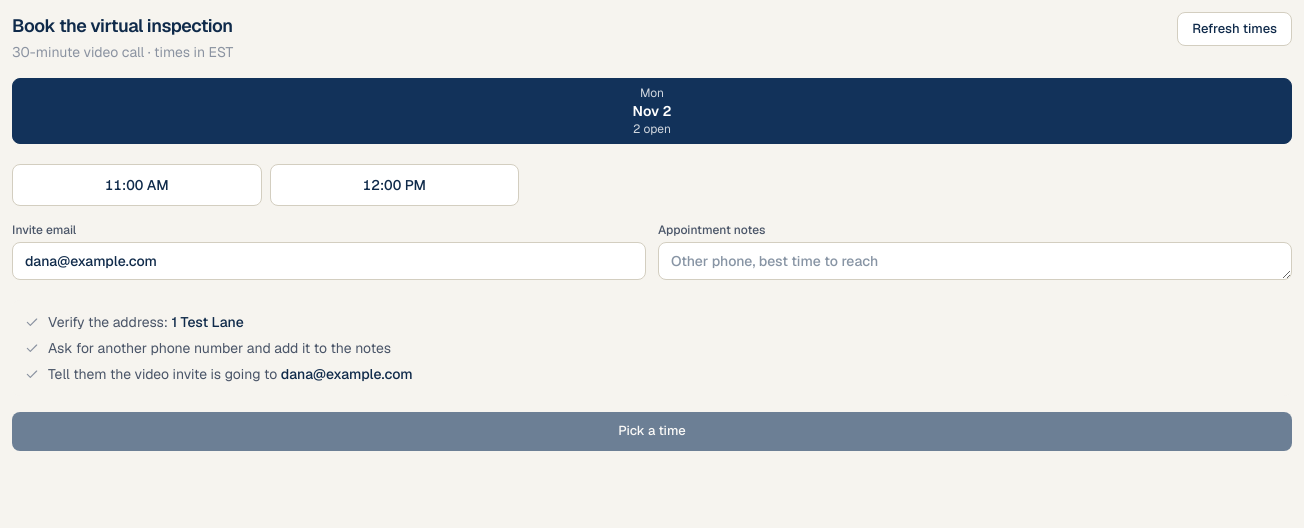
setter virtual booking › slot contention clears the selection and offers refreshed real times
What coordinates should you click on to do the following:
click the button "11:00 AM"
I would click on:
 (137, 185)
Its box is [12, 164, 262, 206].
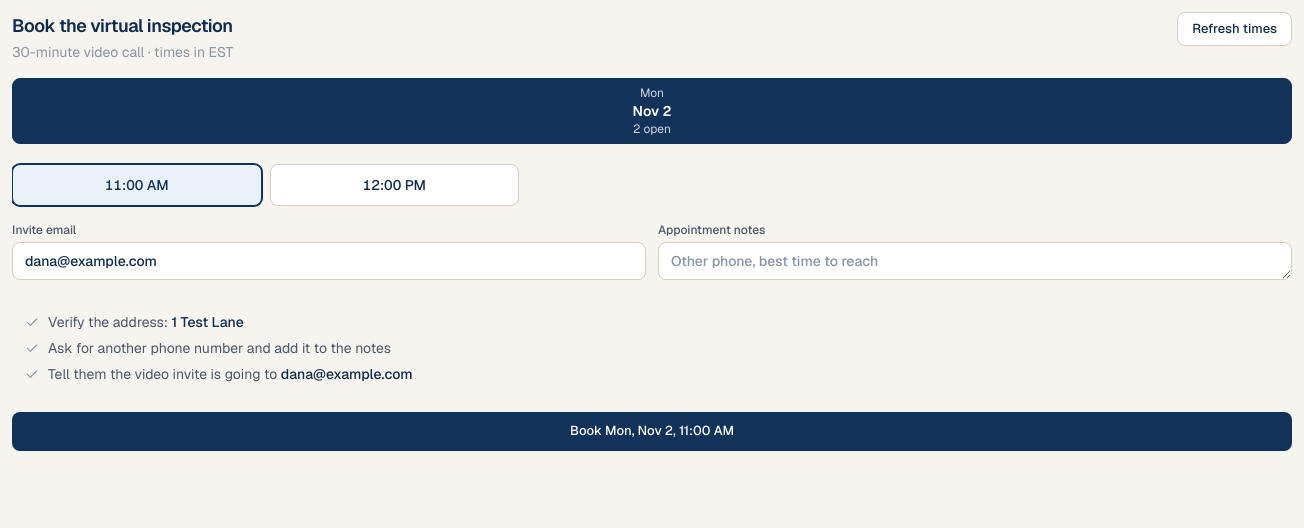
What coordinates should you click on to do the following:
click the button "Book Mon, Nov 2, 11:00 AM"
I would click on:
 (652, 431)
Its box is [12, 412, 1292, 451].
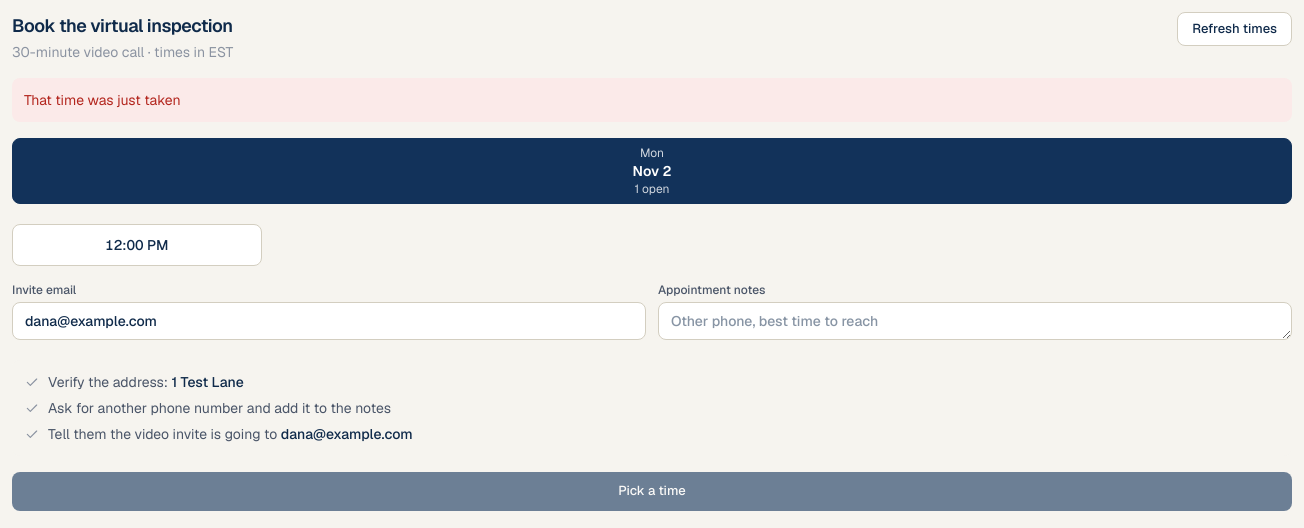
Expected: the message shows "just taken", [24, 91, 181, 109]
Expected: the button "11:00 AM" is gone
Expected: the button "Pick a time" is disabled, [12, 472, 1292, 511]
